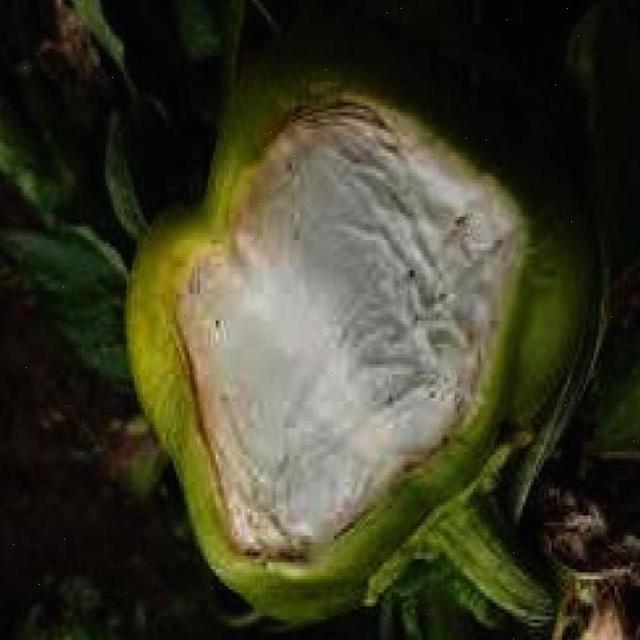Sunscald Fruit: (126, 58, 353, 388)
